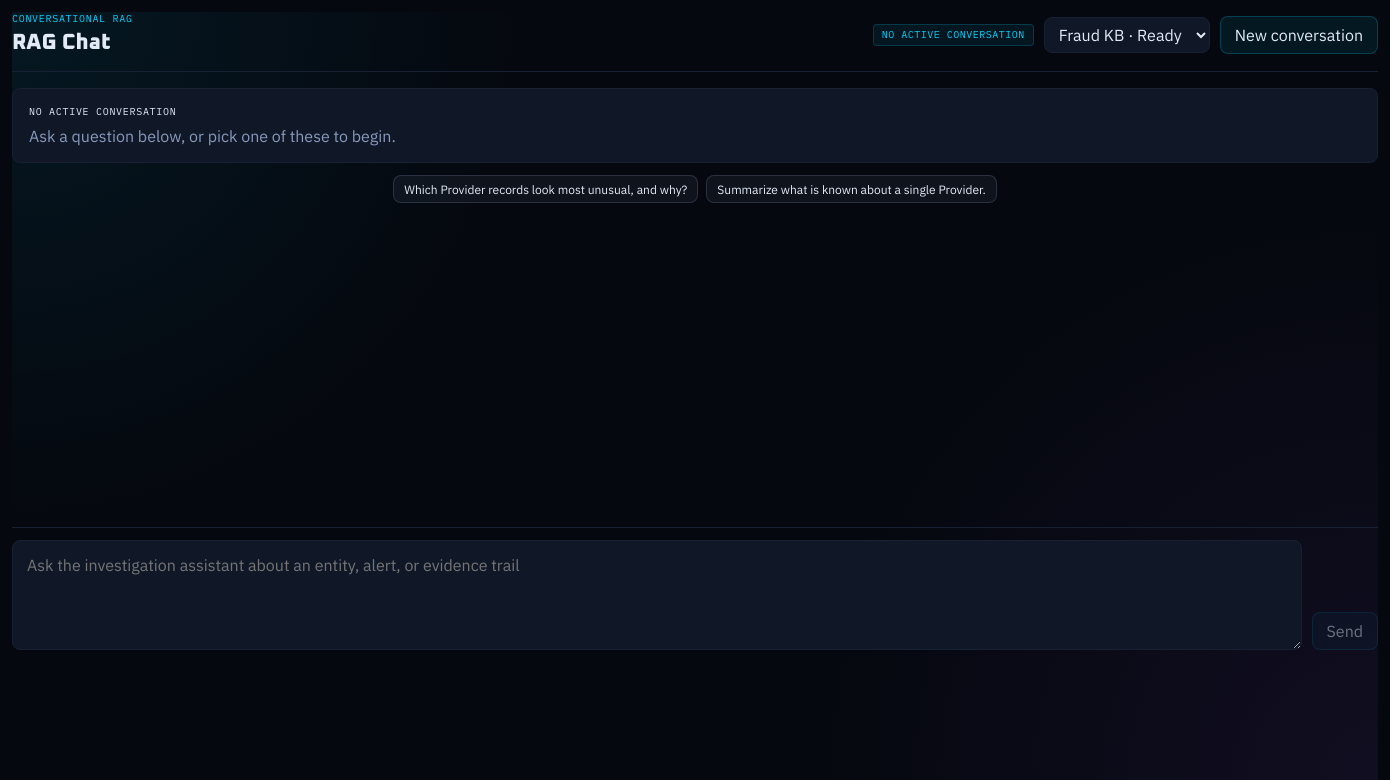
Test: RagChatPage › puts a starter prompt into the composer rather than sending it blind
Click the button "Which Provider records look most unusual, and why?" at (546, 189), box [393,175,698,203]
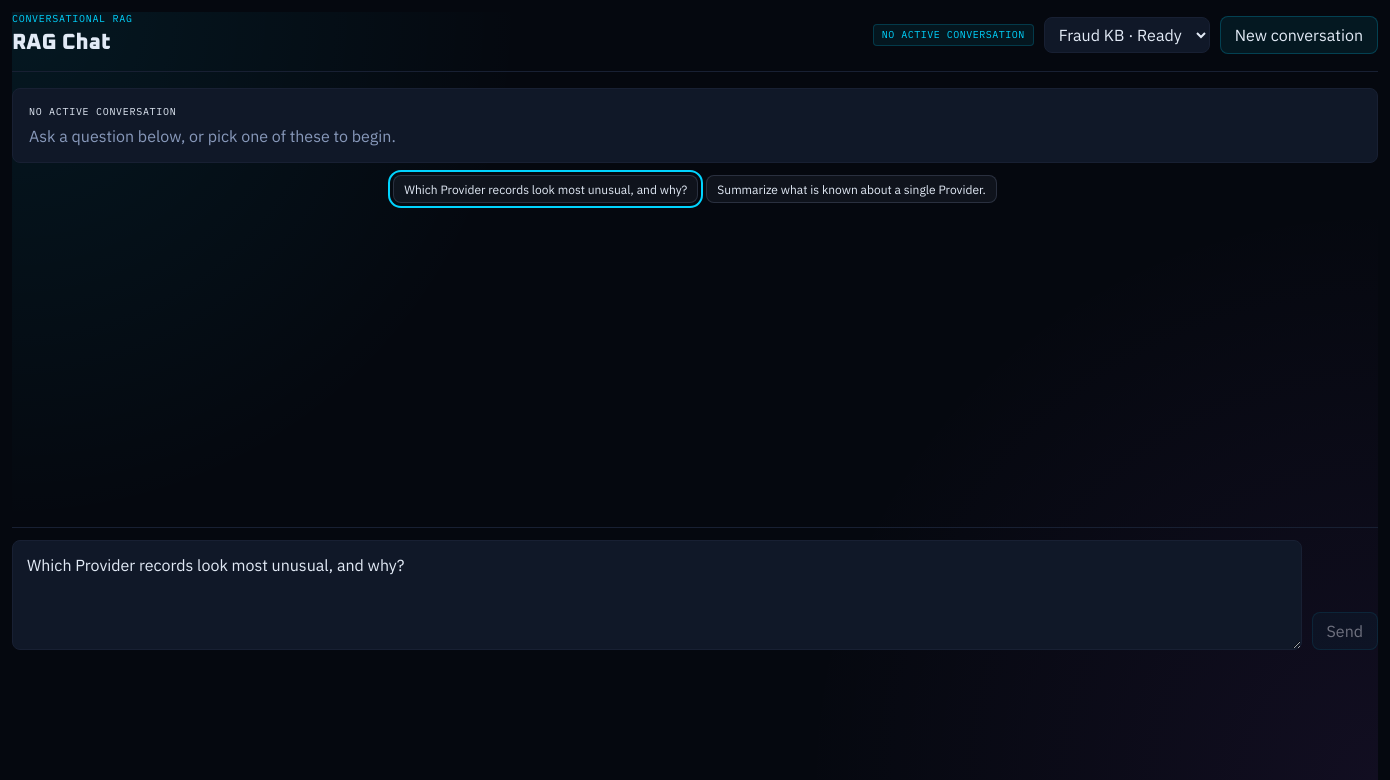
Expected: the text box with placeholder "Ask the investigation assistant" holds "Which Provider records look most unusual, and why?", [12,540,1302,650]
